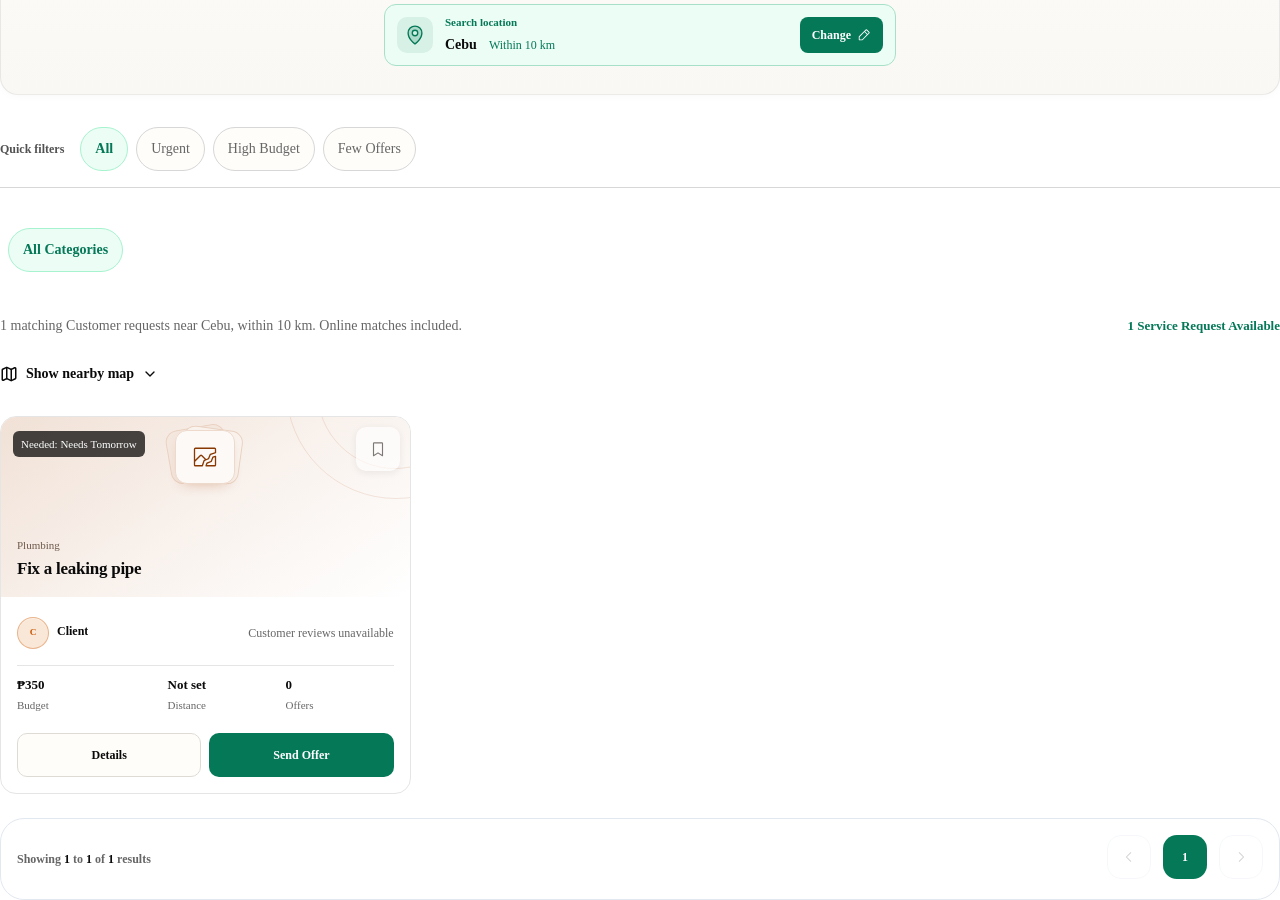
Find Work offer eligibility › links an eligible service to the offer and closes only after success
(page scrolled)
Click the button "Send Offer". click: (301, 755)
box: [209, 733, 394, 777]
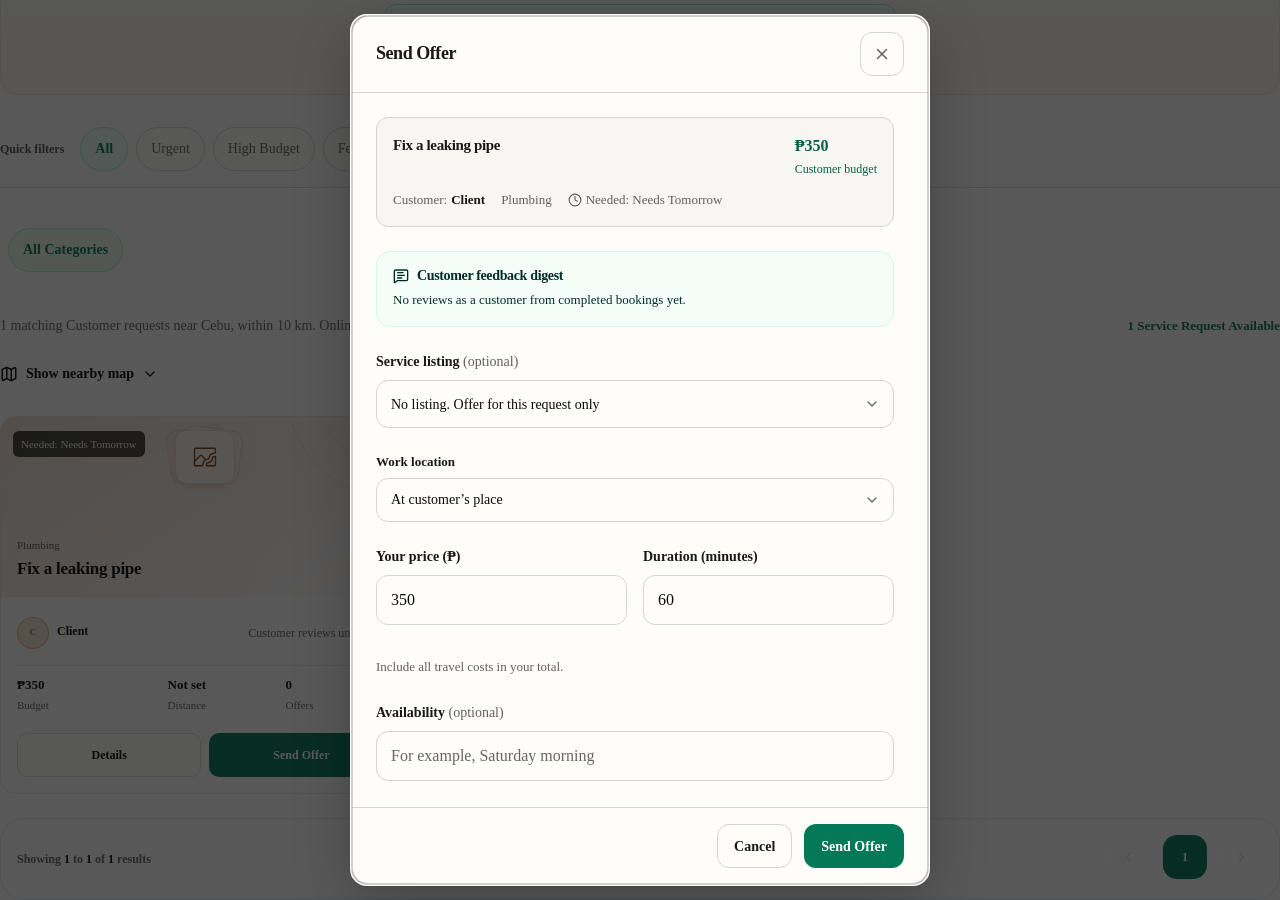
Select "Pipe repair" in the dropdown labelled "Service listing (optional)". click: (635, 404)
box: [376, 380, 894, 428]
(page scrolled)
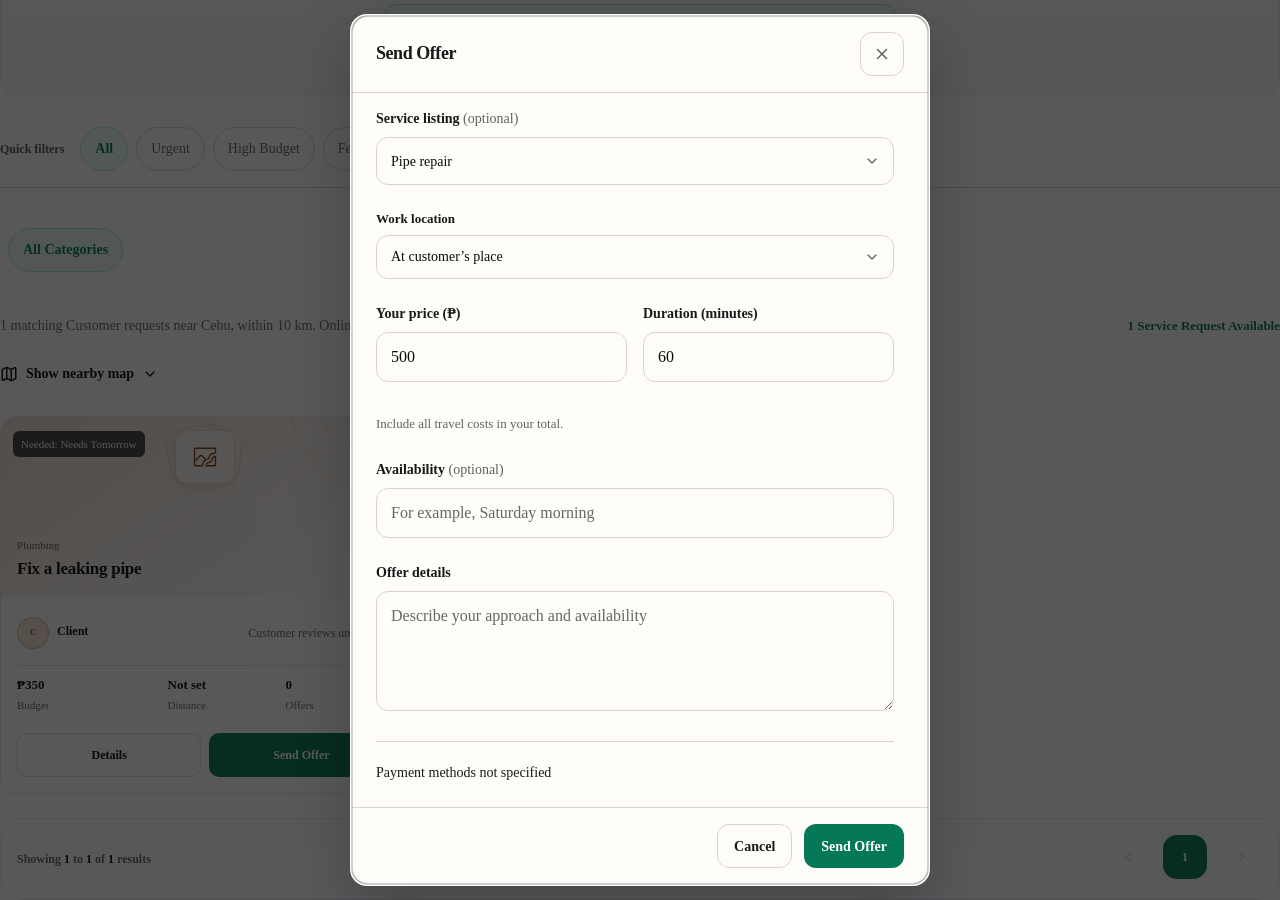
Type "I can repair the pipe tomorrow." into the text box with placeholder "Describe your approach and availability". click: (635, 651)
box: [376, 591, 894, 711]
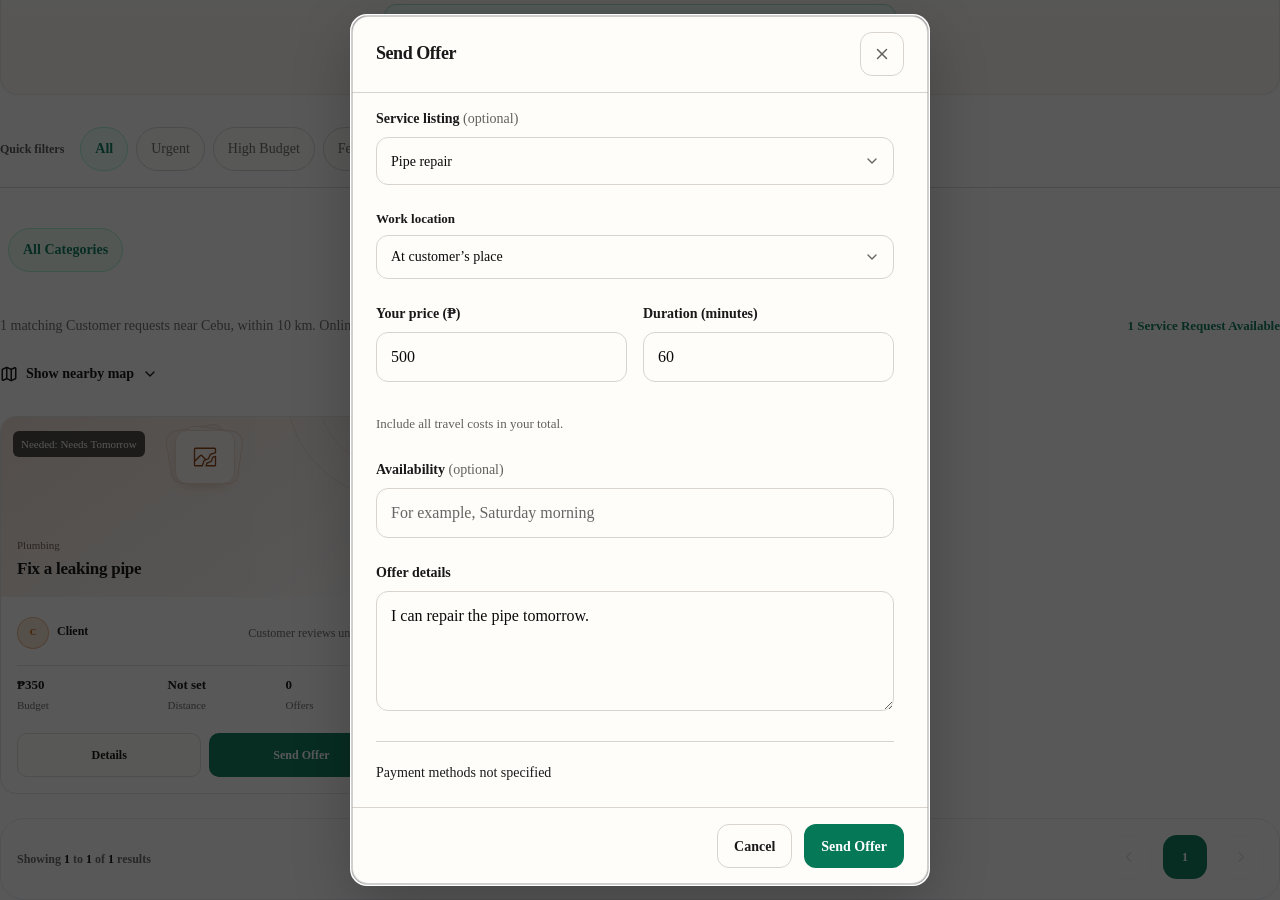
Submit the form named "Send Offer", box [352, 93, 928, 884]
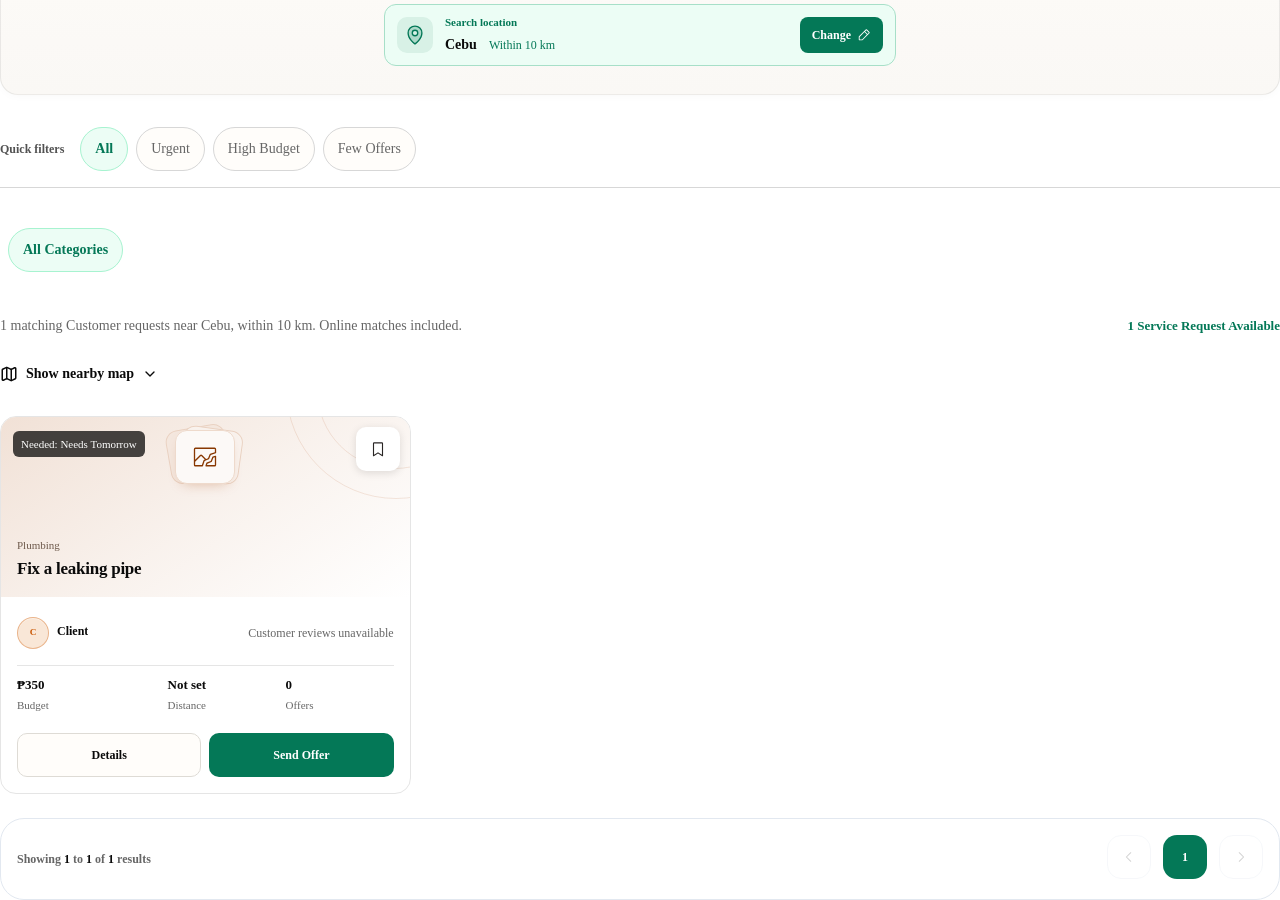
Result: the label labelled "Service listing (optional)" is gone
